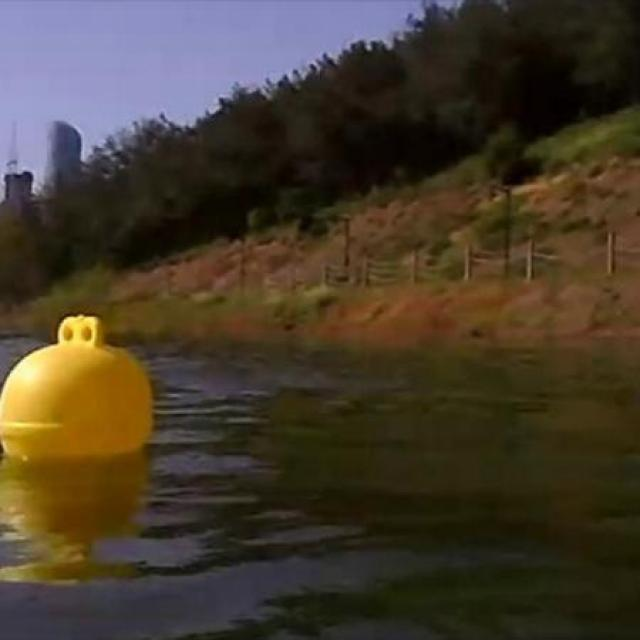buoy: (1, 314, 154, 461)
